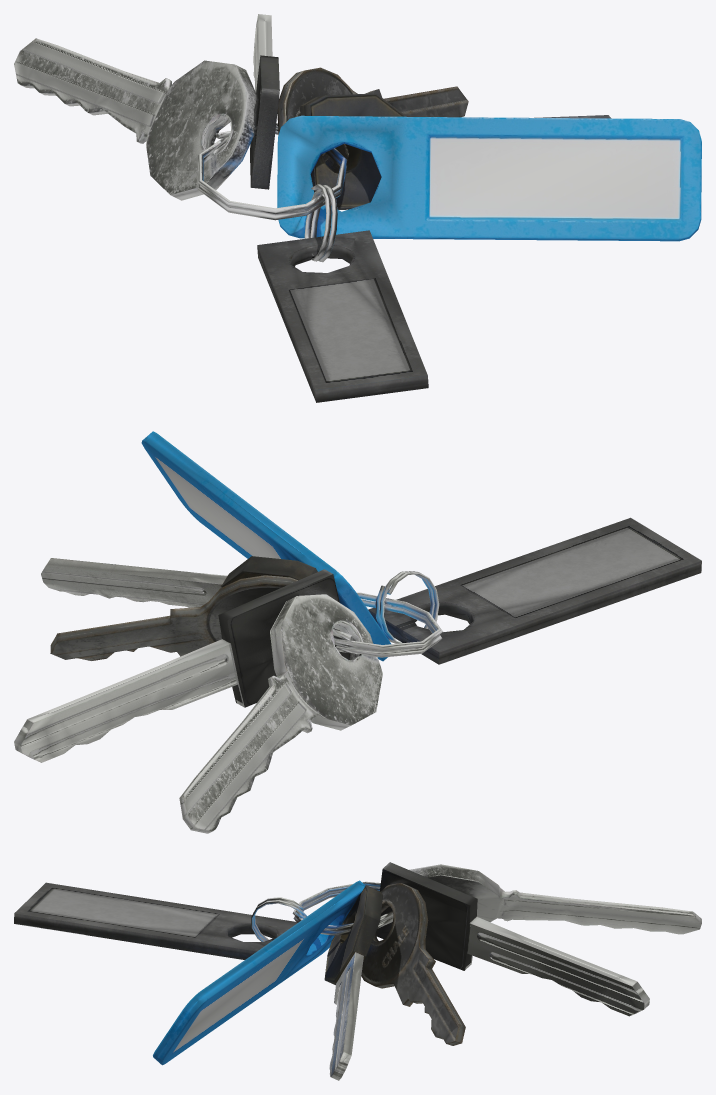
The model's file is keys.glb.
3 views of the same model, one above another, from view 1: azimuth 30°, elevation 25°; view 2: azimuth 150°, elevation 25°; view 3: azimuth 270°, elevation 25° (orthographic). The views are drawn at different scales.
Parts seen in each view (by area): view 1: item_keys; view 2: item_keys; view 3: item_keys.
Part boxes in pixels (x1,y1,x2,y2): item_keys: (14, 14, 701, 402); item_keys: (14, 431, 701, 833); item_keys: (14, 862, 701, 1080).
Bounding box in the file's own units: 7.56 × 1.75 × 11.54.
Materials: 1 (1 with a texture image).
